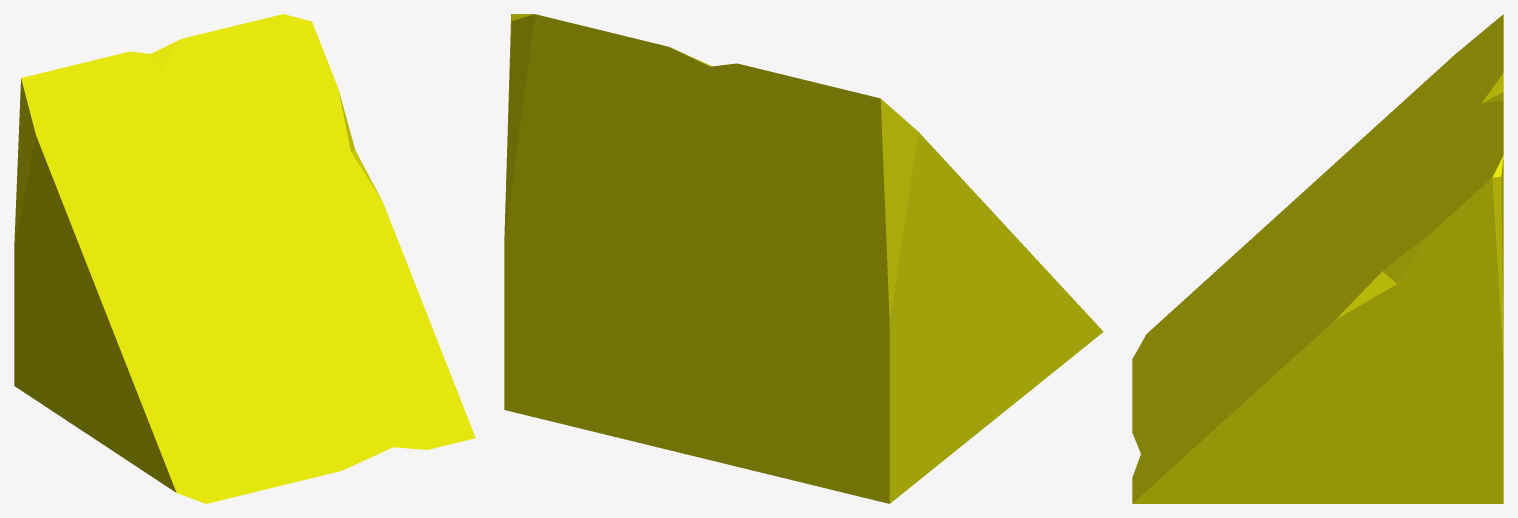
The model's file is SM_PolygonPrototype_Buildings_Ramp_45_1x1_01P.glb.
The picture shows the model from 3 angles, left to right: view 1: azimuth 30°, elevation 25°; view 2: azimuth 150°, elevation 25°; view 3: azimuth 270°, elevation 25°; orthographic projection. The views are drawn at different scales.
Parts seen in each view (by area): view 1: SM_PolygonPrototype_Buildings_Ramp_45_1x1_01P; view 2: SM_PolygonPrototype_Buildings_Ramp_45_1x1_01P; view 3: SM_PolygonPrototype_Buildings_Ramp_45_1x1_01P.
Boxes of the visible parts, box(x1,y1,x2,y2) form: SM_PolygonPrototype_Buildings_Ramp_45_1x1_01P: box(14, 14, 475, 503); SM_PolygonPrototype_Buildings_Ramp_45_1x1_01P: box(504, 14, 1103, 503); SM_PolygonPrototype_Buildings_Ramp_45_1x1_01P: box(1132, 14, 1503, 503).
Size of the model in its own units: 1 by 1 by 1.
1 material, 1 textured.
